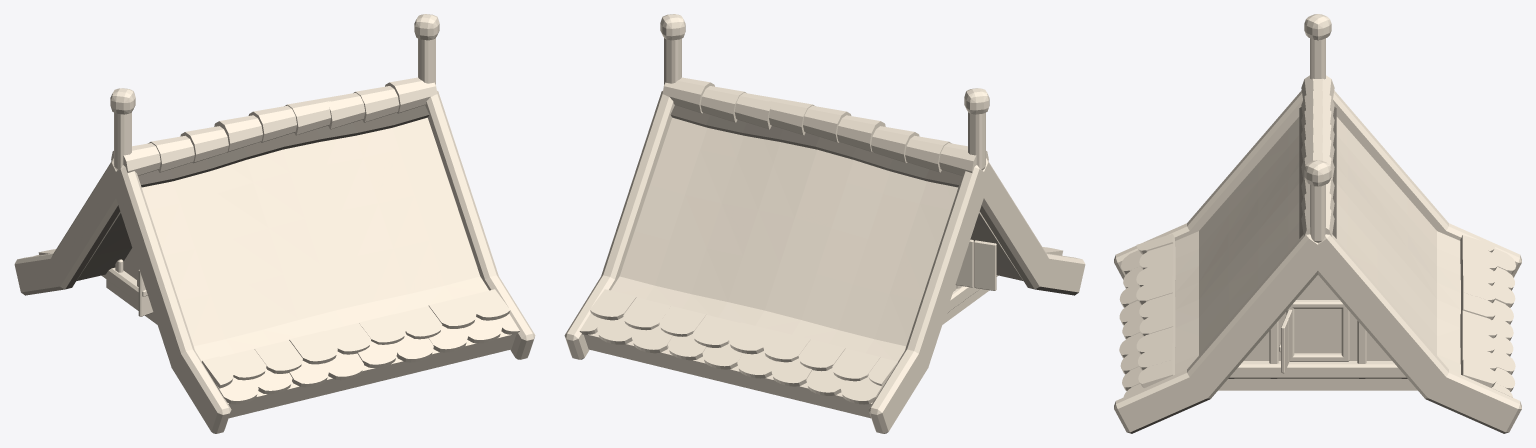
File: SM_VK_RoofS_Single.fbx
3 views of the same model, side by side, from view 1: azimuth 30°, elevation 25°; view 2: azimuth 150°, elevation 25°; view 3: azimuth 270°, elevation 25° (orthographic).
Parts seen in each view (by area): view 1: SM_VK_RoofS_Single.001; view 2: SM_VK_RoofS_Single.001; view 3: SM_VK_RoofS_Single.001.
Part boxes in pixels (box(x1,y1,x2,y2)): SM_VK_RoofS_Single.001: box(14, 14, 535, 433); SM_VK_RoofS_Single.001: box(564, 14, 1085, 433); SM_VK_RoofS_Single.001: box(1114, 14, 1521, 433).
Size of the model in its own units: 4.7 by 3.75 by 5.14.
